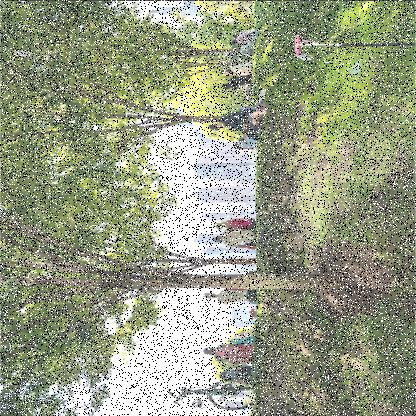Tree: (0, 160, 345, 415), (0, 56, 255, 200), (0, 192, 261, 332), (0, 1, 256, 82), (0, 28, 254, 105)
